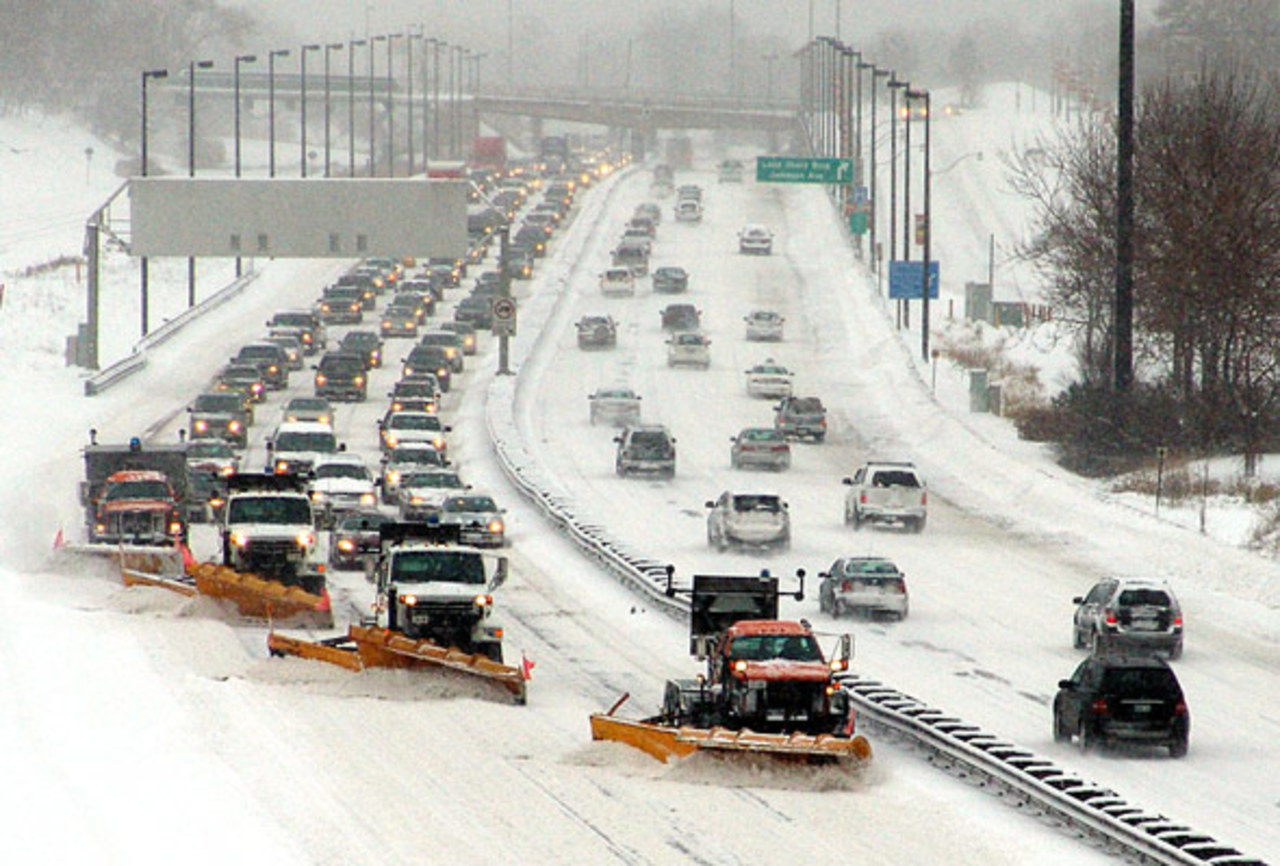car: (1052, 656, 1191, 759), (1083, 577, 1184, 659), (823, 555, 910, 622), (845, 463, 927, 533), (704, 491, 792, 551), (269, 424, 344, 482), (434, 493, 510, 547), (326, 509, 396, 563), (310, 458, 376, 513), (615, 423, 677, 479), (187, 396, 246, 451), (385, 449, 446, 496), (402, 464, 455, 518), (729, 427, 794, 471), (383, 418, 448, 458), (313, 352, 366, 401), (774, 398, 827, 445), (583, 383, 642, 425), (401, 347, 453, 389), (743, 359, 795, 400), (663, 329, 712, 370), (235, 345, 284, 386), (272, 311, 313, 354), (283, 396, 335, 428), (341, 328, 381, 368), (216, 372, 264, 404), (262, 333, 301, 372), (574, 314, 620, 347), (391, 385, 439, 412), (424, 335, 461, 370), (321, 287, 359, 321), (734, 226, 776, 254), (379, 306, 415, 338), (460, 300, 497, 330), (441, 322, 477, 352), (658, 307, 701, 332), (742, 313, 785, 338), (597, 267, 635, 295), (341, 275, 374, 307), (615, 242, 646, 274), (394, 296, 427, 324), (651, 268, 689, 292), (713, 155, 742, 186), (502, 252, 532, 279), (422, 264, 461, 284), (673, 199, 704, 224), (517, 232, 546, 257), (532, 204, 562, 228), (625, 218, 657, 240), (474, 284, 503, 308), (633, 202, 660, 224), (464, 239, 481, 273)
truck: (596, 576, 874, 783), (274, 530, 521, 670), (182, 469, 328, 638), (55, 437, 184, 599), (471, 136, 505, 180), (539, 132, 565, 179)
